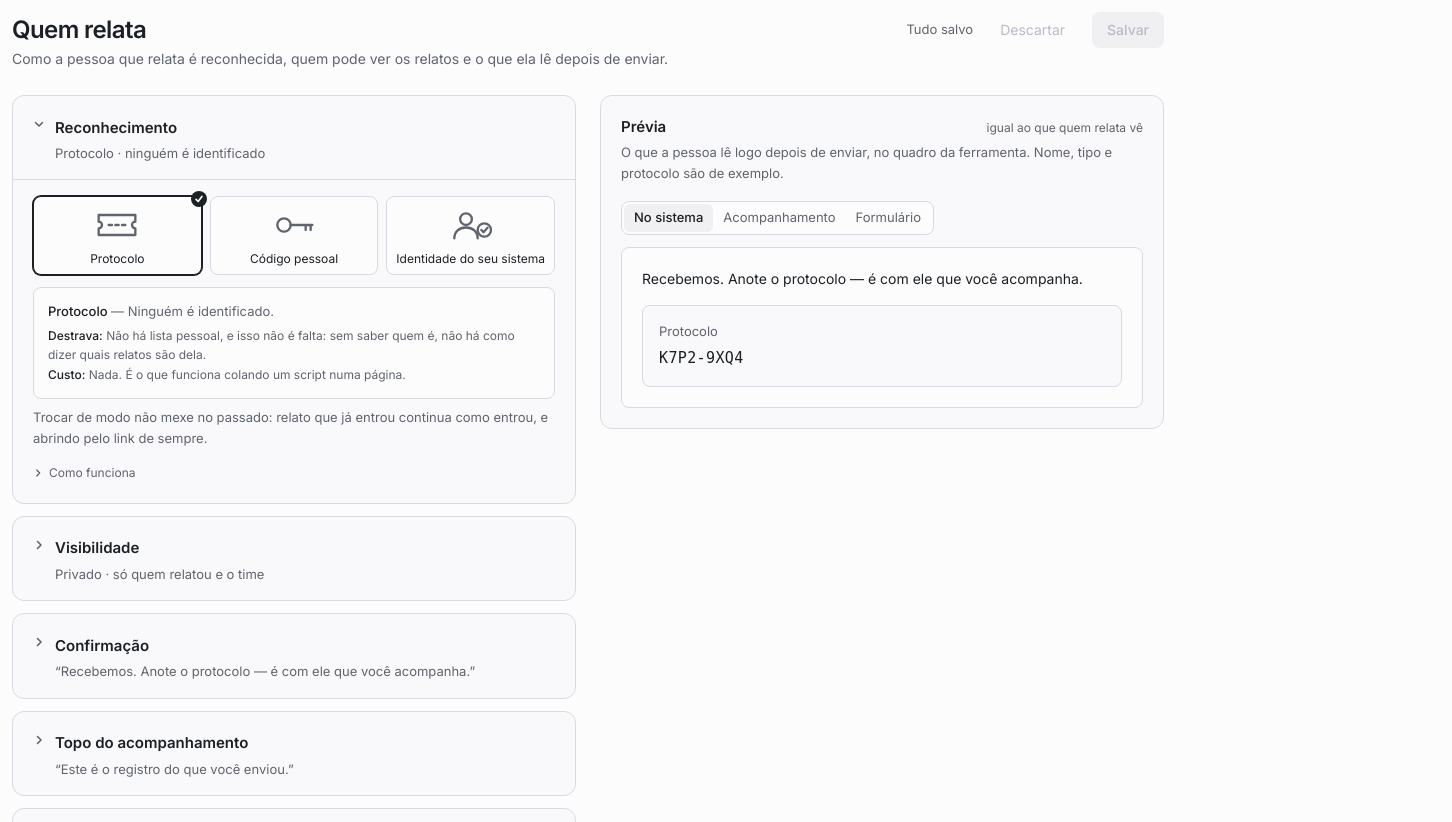
Test: IdentityScreen › depois de salvar, o botão volta a ficar quieto
Click the radio button labelled "Código pessoal" at (294, 236), box [211,197,377,274]
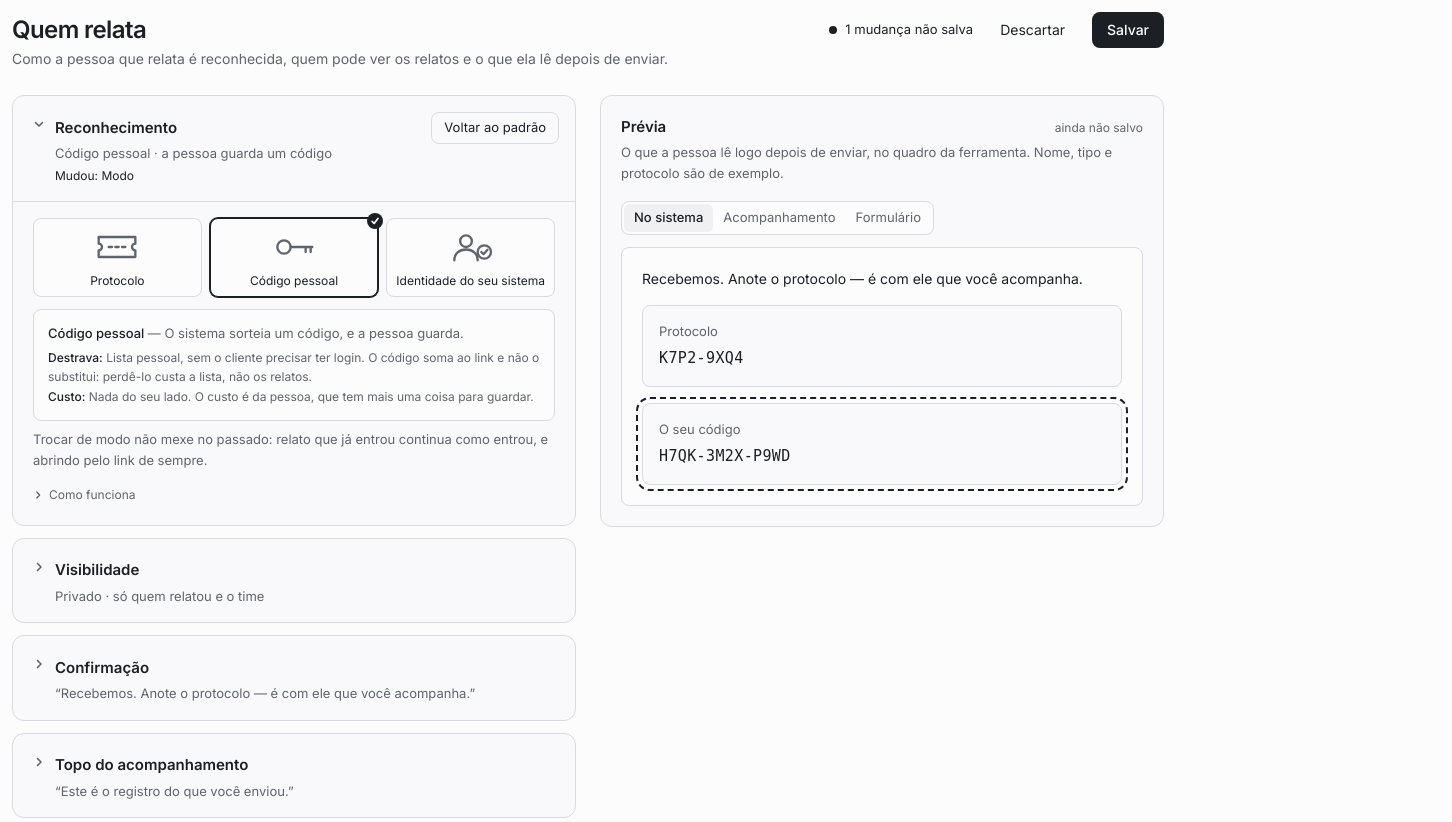
Click the button "Salvar" at (1128, 30), box [1092,12,1164,48]
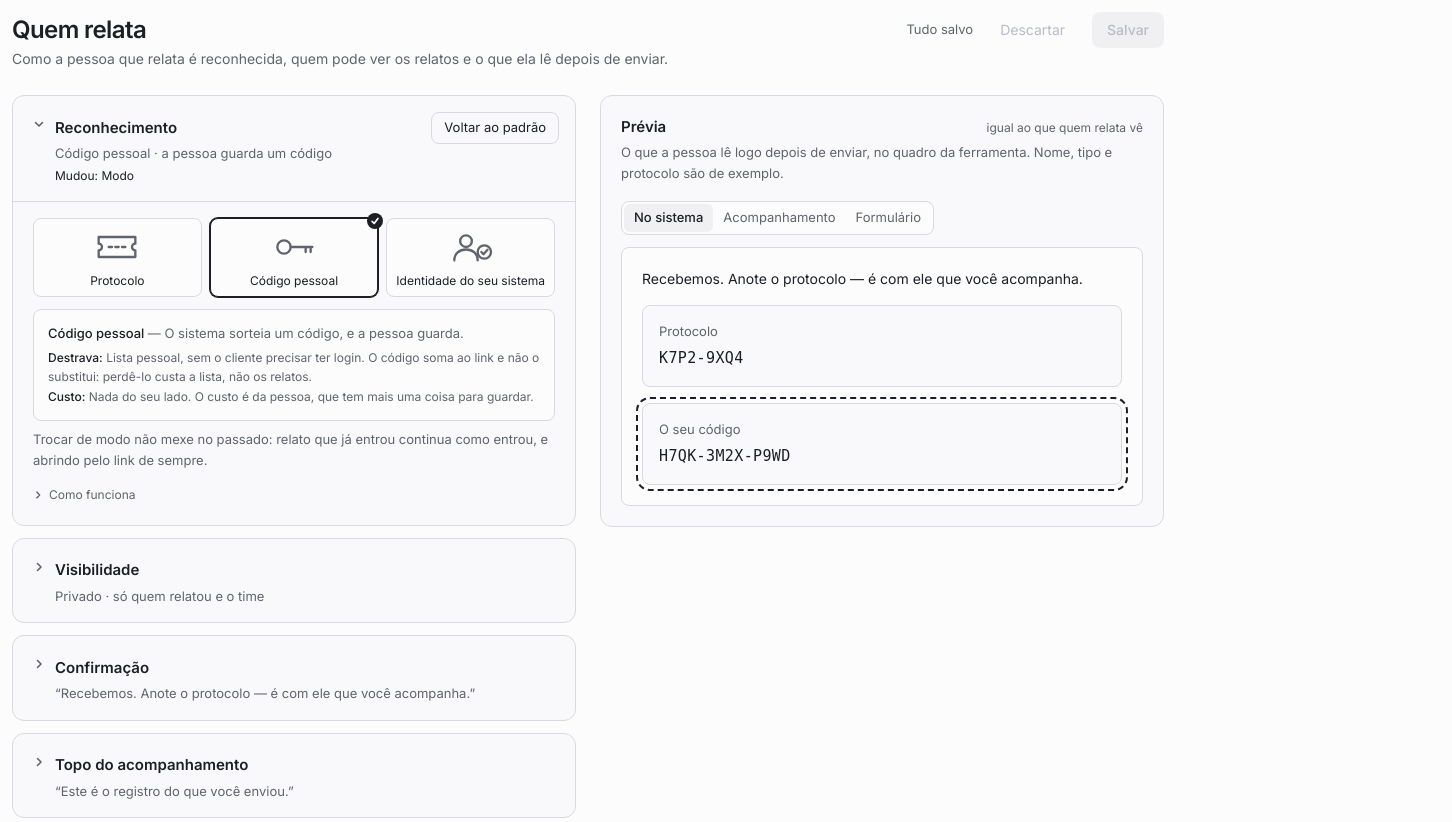
Expected: the text "Tudo salvo" is shown, [906,20,973,40]
